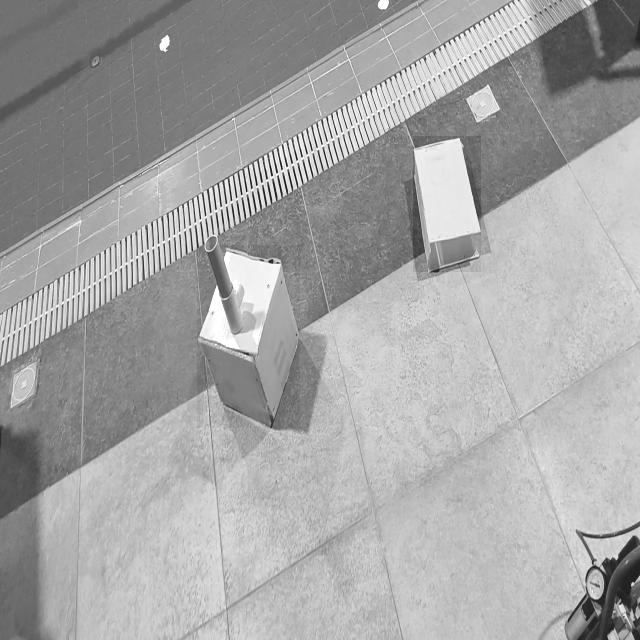Cube: (197, 245, 300, 428)
Cuboid: (413, 136, 481, 272)
